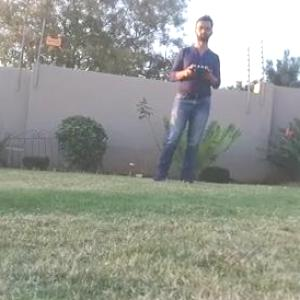follow: (147, 6, 223, 186)
